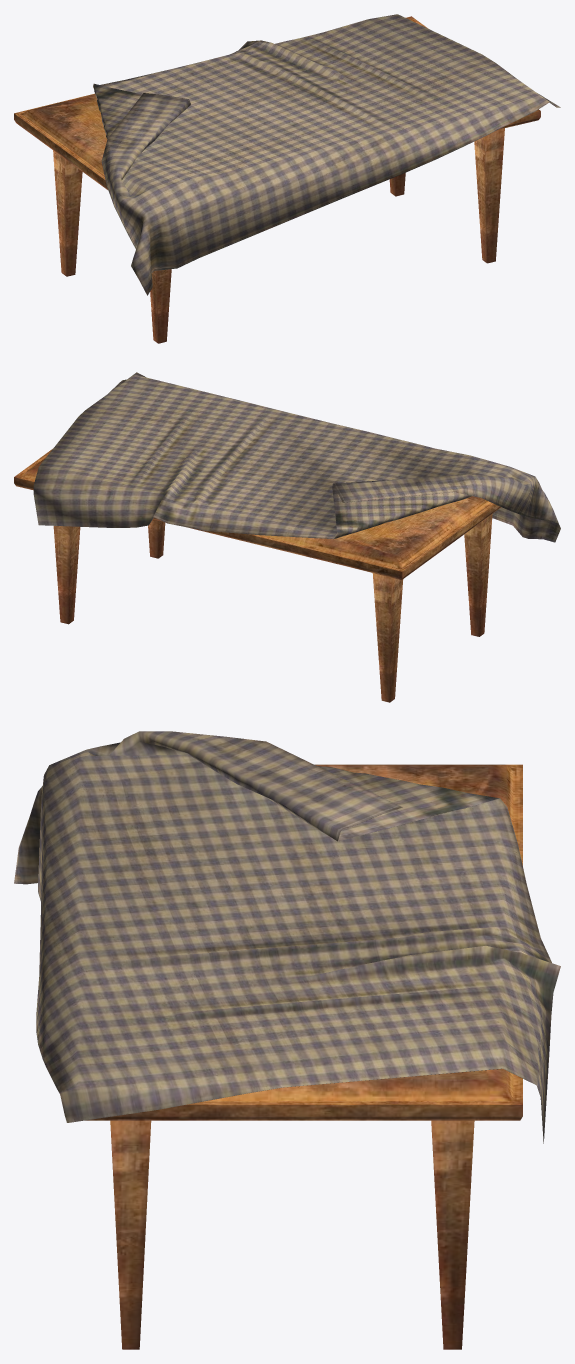
Rendered from dining-table.glb.
The picture shows the model from 3 angles, top to bottom: view 1: azimuth 30°, elevation 25°; view 2: azimuth 150°, elevation 25°; view 3: azimuth 270°, elevation 25°; orthographic projection. The views are drawn at different scales.
Visible parts, largest first — view 1: dining_table; view 2: dining_table; view 3: dining_table.
Boxes of the visible parts, left/top/right/bottom form: dining_table: left=14, top=14, right=560, bottom=343; dining_table: left=14, top=372, right=560, bottom=702; dining_table: left=14, top=731, right=560, bottom=1349.
Bounding box in the file's own units: 2.26 × 0.8769 × 1.39.
Materials: 1 (1 with a texture image).
